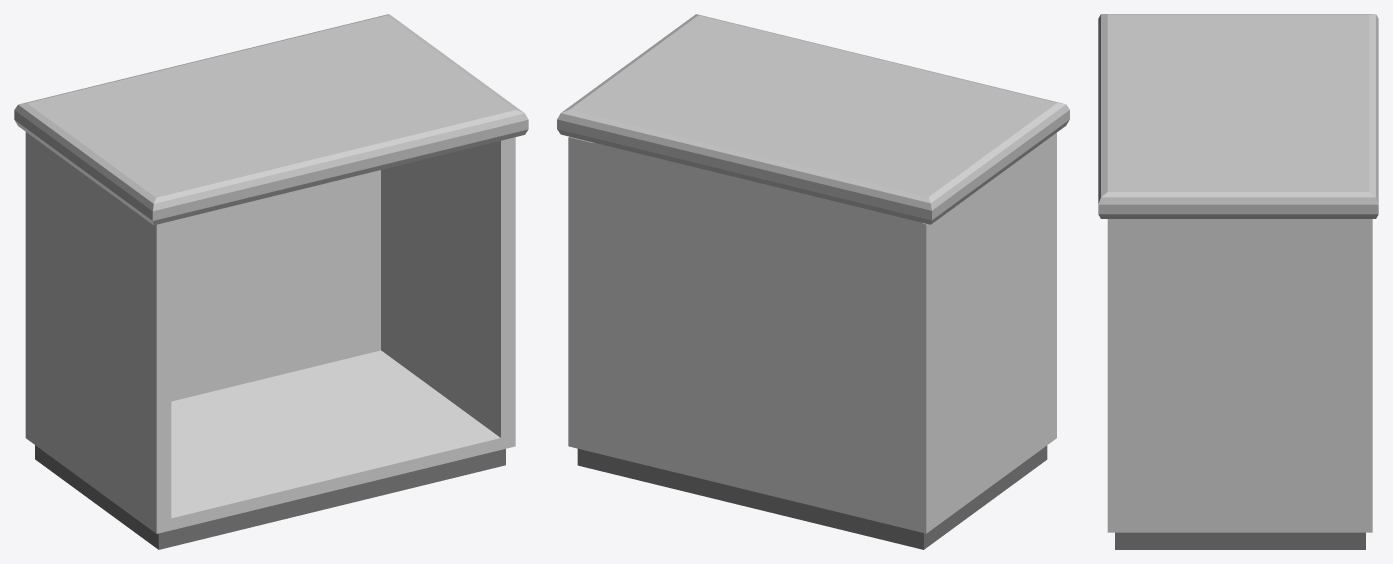
Rendered from counter_2.glb.
The picture shows the model from 3 angles, left to right: view 1: azimuth 30°, elevation 25°; view 2: azimuth 150°, elevation 25°; view 3: azimuth 270°, elevation 25°; orthographic projection.
Parts seen in each view (by area): view 1: Counter (separated); view 2: Counter (separated); view 3: Counter (separated).
Boxes of the visible parts, x1,y1,x2,y2 form: Counter (separated): (14,14,528,549); Counter (separated): (557,14,1069,549); Counter (separated): (1098,14,1378,549).
Size of the model in its own units: 1.05 by 0.949 by 0.6682.
1 material, 1 textured.
